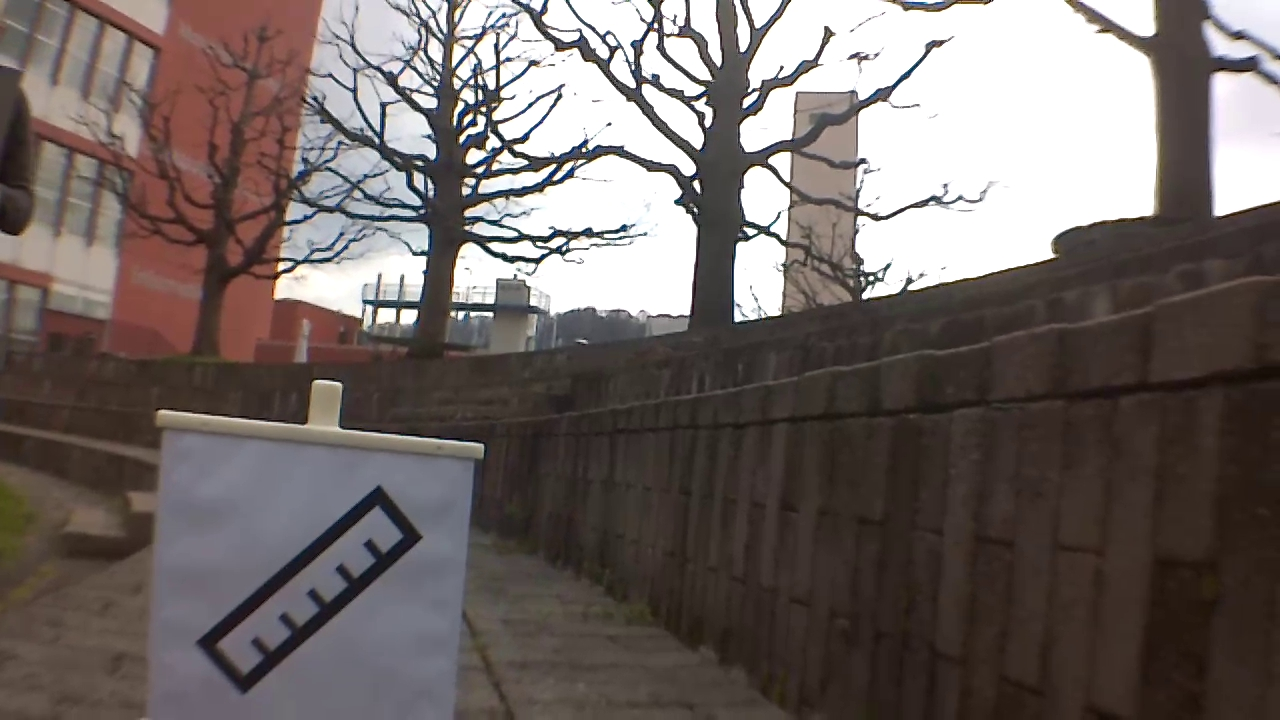ruler: (189, 484, 430, 703)
